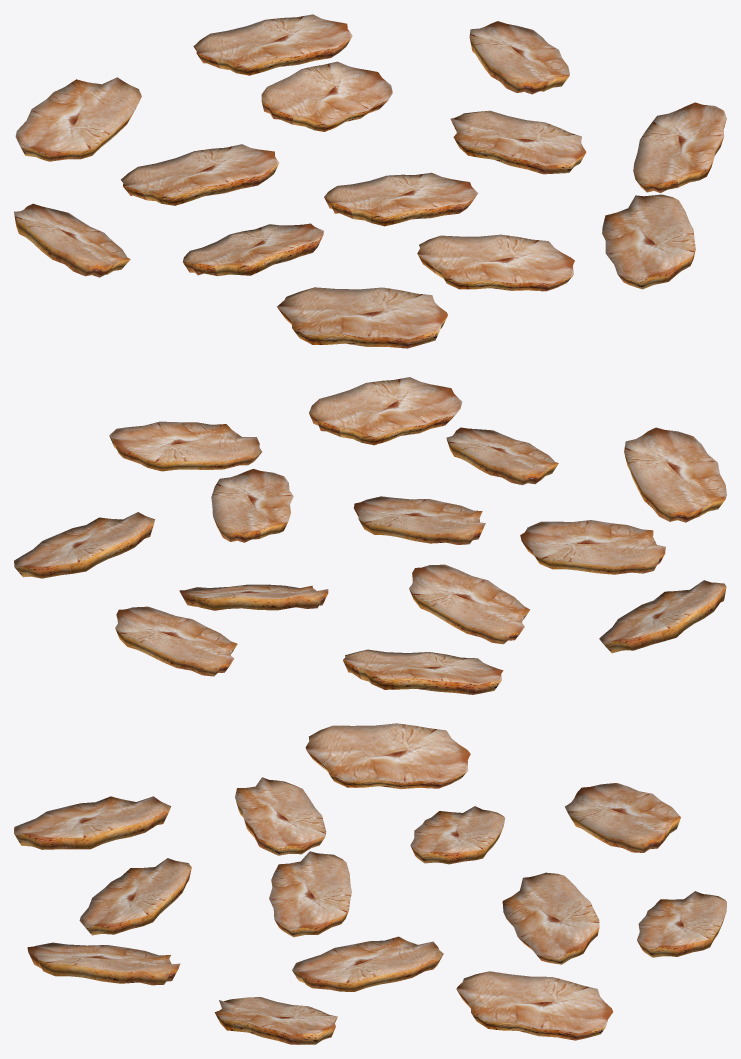
The model's file is chicken_topping.fbx.
The picture shows the model from 3 angles, top to bottom: view 1: azimuth 30°, elevation 25°; view 2: azimuth 150°, elevation 25°; view 3: azimuth 270°, elevation 25°; orthographic projection. The views are drawn at different scales.
Parts seen in each view (by area): view 1: chicken.002, chicken.007, chicken, chicken.003, chicken.012, chicken.008, chicken.004, chicken.006, chicken.010, chicken.009, chicken.005, chicken.011 (+1 smaller); view 2: chicken.003, chicken.002, chicken.011, chicken.006, chicken.004, chicken.012, chicken, chicken.005, chicken.010, chicken.009, chicken.001, chicken.007 (+1 smaller); view 3: chicken.001, chicken.005, chicken.008, chicken.002, chicken.009, chicken.010, chicken, chicken.007, chicken.011, chicken.003, chicken.012, chicken.006 (+1 smaller).
Part boxes in pixels (left/top/right/bottom): chicken.002: left=277, top=287, right=447, bottom=348; chicken.007: left=417, top=234, right=574, bottom=291; chicken: left=15, top=77, right=141, bottom=161; chicken.003: left=602, top=194, right=695, bottom=289; chicken.012: left=193, top=14, right=352, bottom=75; chicken.008: left=261, top=61, right=392, bottom=131; chicken.004: left=121, top=144, right=279, bottom=205; chicken.006: left=633, top=102, right=726, bottom=192; chicken.010: left=450, top=110, right=586, bottom=174; chicken.009: left=324, top=172, right=478, bottom=226; chicken.005: left=469, top=21, right=569, bottom=94; chicken.011: left=183, top=223, right=323, bottom=276; chicken.003: left=309, top=377, right=462, bottom=445; chicken.002: left=624, top=427, right=726, bottom=522; chicken.011: left=520, top=520, right=665, bottom=574; chicken.006: left=109, top=421, right=261, bottom=471; chicken.004: left=409, top=564, right=529, bottom=644; chicken.012: left=115, top=606, right=237, bottom=676; chicken: left=343, top=649, right=503, bottom=694; chicken.005: left=14, top=512, right=154, bottom=578; chicken.010: left=211, top=469, right=293, bottom=542; chicken.009: left=354, top=496, right=485, bottom=544; chicken.001: left=599, top=580, right=726, bottom=653; chicken.007: left=446, top=427, right=558, bottom=485; chicken.001: left=305, top=723, right=470, bottom=789; chicken.005: left=456, top=971, right=612, bottom=1040; chicken.008: left=502, top=872, right=599, bottom=964; chicken.002: left=14, top=796, right=170, bottom=849; chicken.009: left=269, top=851, right=351, bottom=937; chicken.010: left=292, top=936, right=443, bottom=991; chicken: left=565, top=783, right=680, bottom=852; chicken.007: left=79, top=858, right=191, bottom=935; chicken.011: left=235, top=777, right=326, bottom=855; chicken.003: left=27, top=942, right=180, bottom=985; chicken.012: left=637, top=891, right=726, bottom=957; chicken.006: left=214, top=997, right=337, bottom=1044.
Size of the model in its own units: 55.59 by 3.15 by 54.54.
Materials: 13 (13 with a texture image).
